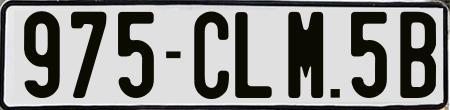5: (350, 12, 388, 104), (115, 11, 152, 103)
7: (68, 12, 104, 104)
9: (23, 8, 65, 100)
B: (398, 12, 433, 100)
C: (191, 10, 232, 100)
L: (234, 9, 271, 99)
M: (287, 11, 323, 102)
